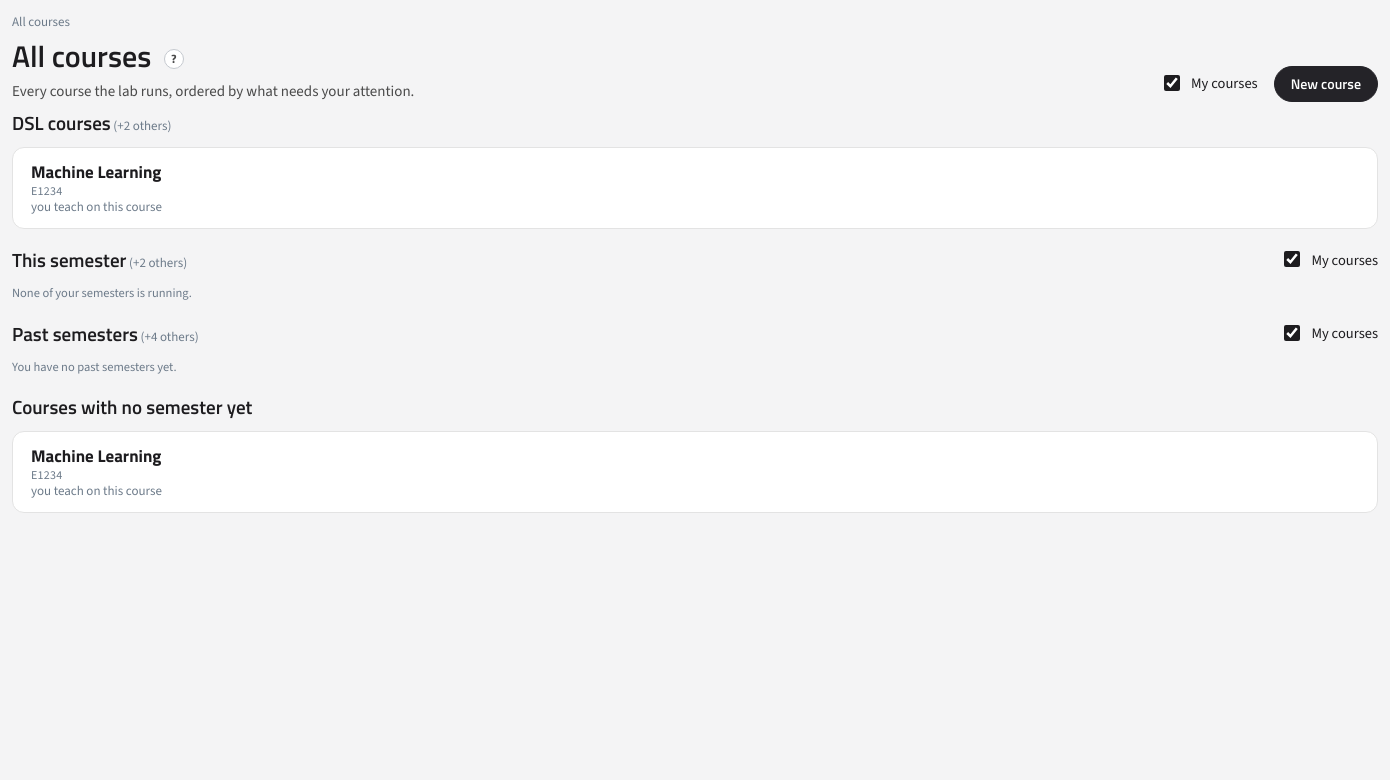
Test: All courses › remembers each section’s choice for this login
Click the checkbox labelled "My courses" in the row of "This semester".
click(1292, 259)  # box [1284,251,1300,267]
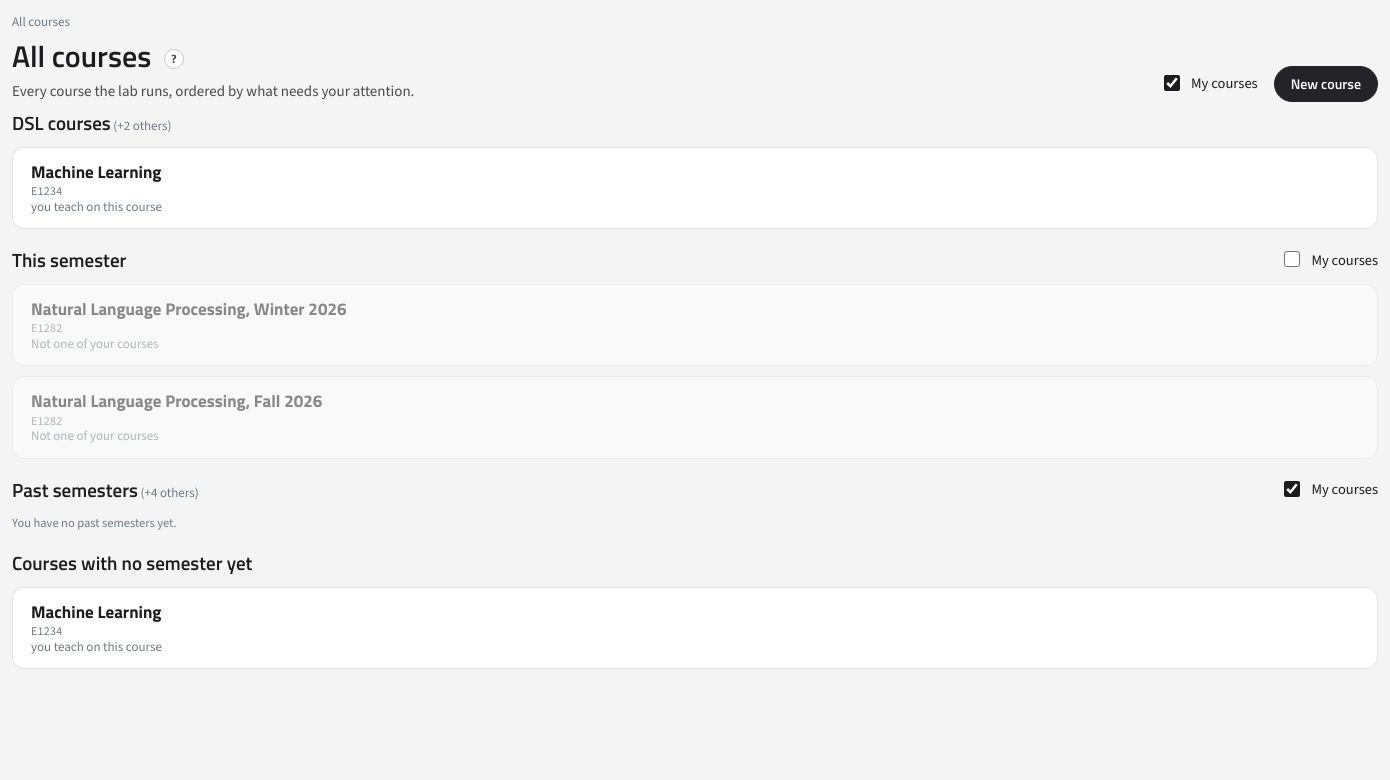
Expected: the checkbox labelled "My courses" in the row of "New course" is checked, [1164,74,1180,90]
Now the checkbox labelled "My courses" in the row of "This semester" is not checked, box [1284,251,1300,267]
